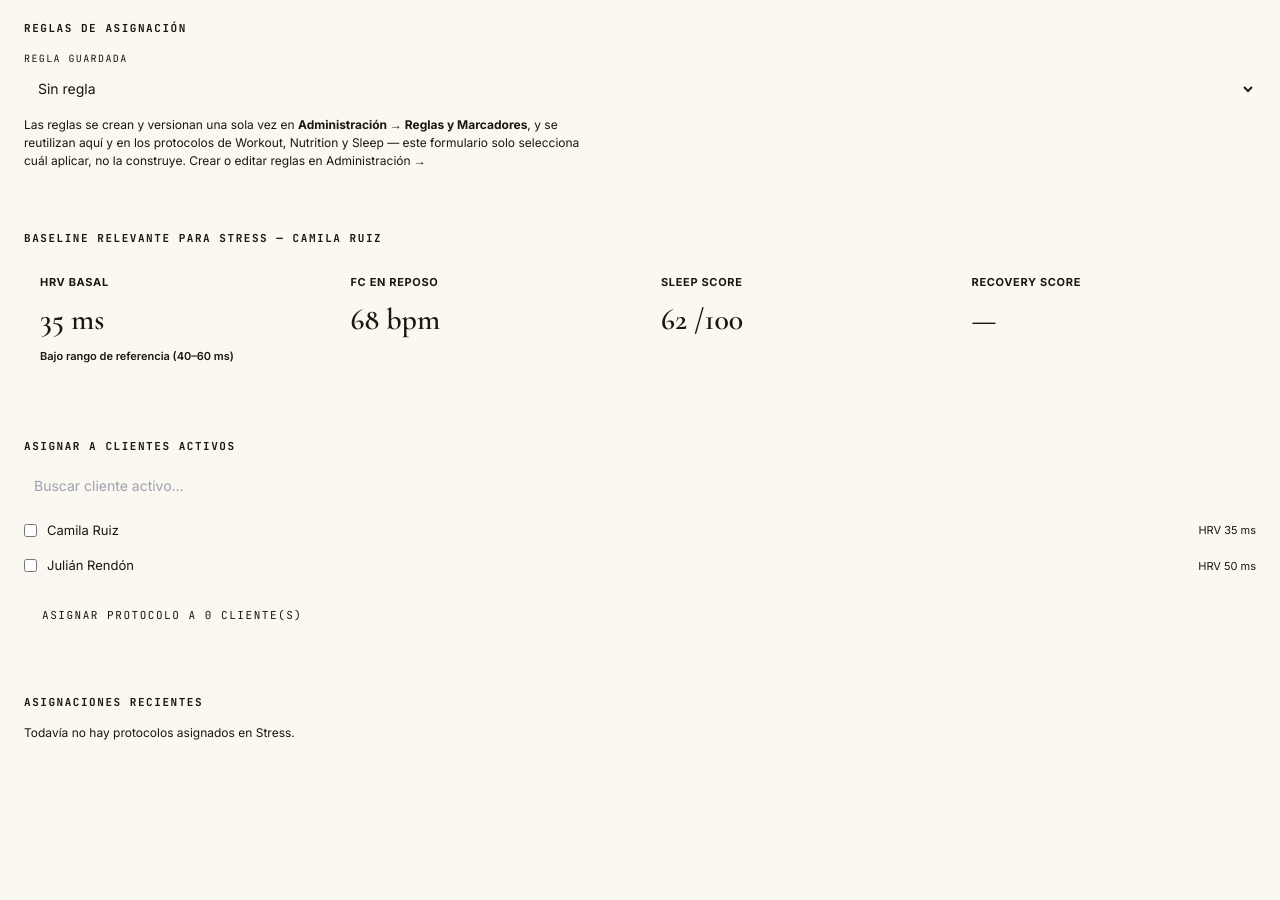
Test case: AdminStressProtocolCriteriaAndAssignment (Fase 4) › filters the client checklist by search
The image size is (1280, 900).
Expected: the text "Camila Ruiz" is shown, [47,522,119,538]
In the field labelled "Buscar cliente activo": (640, 486) [24,468,1256,502], type "Julián"
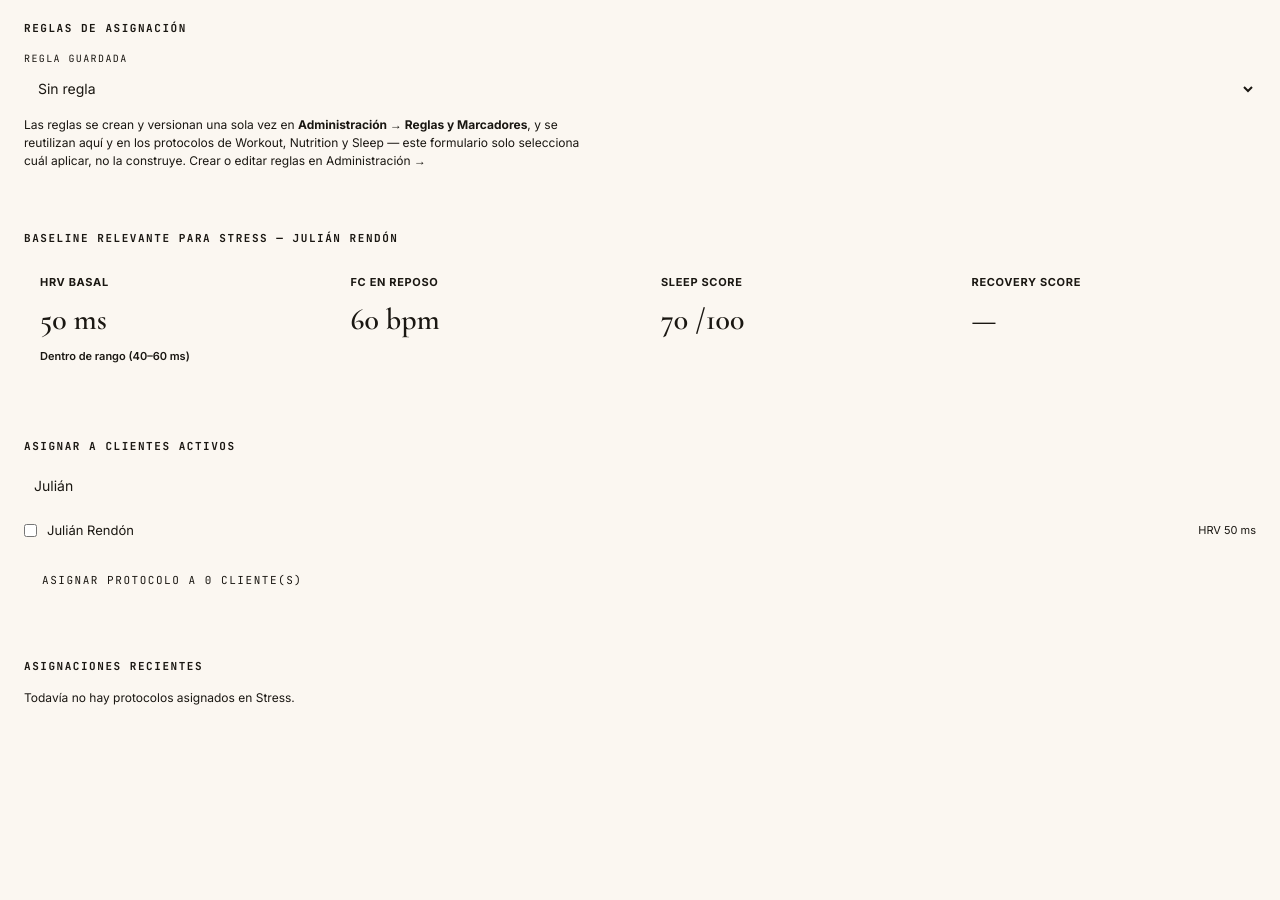
Expected: the text "Julián Rendón" is shown, [47,522,134,538]
Now the text "Camila Ruiz" is gone
